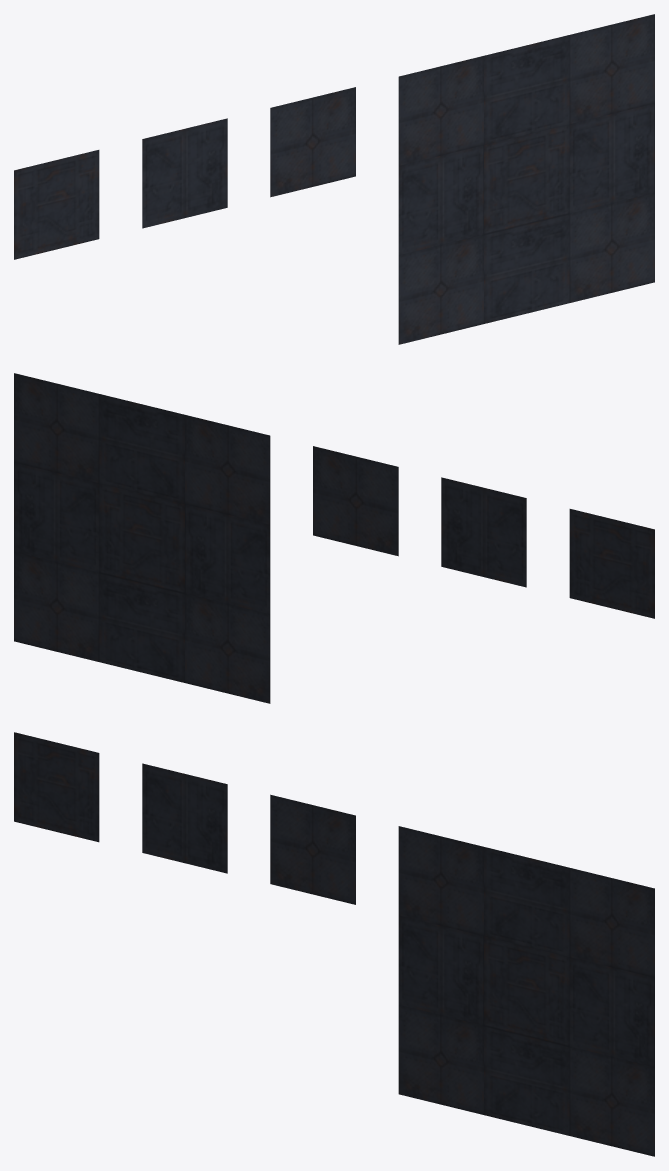
Rendered from sci-fi_modular_floor_tiles.fbx.
The picture shows the model from 3 angles, top to bottom: view 1: azimuth 30°, elevation 25°; view 2: azimuth 150°, elevation 25°; view 3: azimuth 330°, elevation 25°; orthographic projection.
Parts seen in each view (by area): view 1: Object_2; view 2: Object_2; view 3: Object_2.
Part boxes in pixels (<box>): Object_2: <box>14,14,654,344</box>; Object_2: <box>14,373,654,703</box>; Object_2: <box>14,732,654,1156</box>.
Bounding box in the file's own units: 1500 × 600 × 3.05e-05.
1 material, 1 textured.
